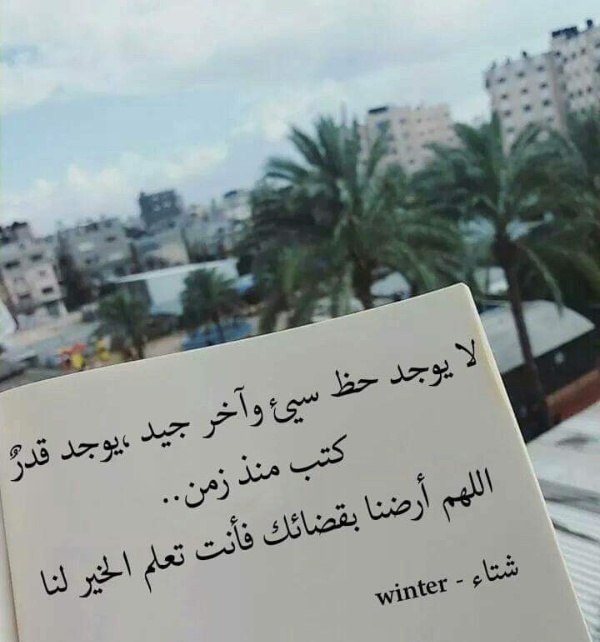text: (369, 471, 384, 533), (385, 471, 400, 533), (401, 471, 416, 533), (417, 471, 432, 533), (209, 382, 224, 443), (225, 382, 240, 443), (449, 466, 464, 525), (465, 466, 480, 525), (481, 466, 496, 525), (241, 511, 257, 565), (145, 538, 160, 594), (161, 538, 176, 594), (273, 498, 288, 553), (289, 498, 304, 553), (305, 498, 320, 553), (321, 498, 336, 553), (337, 498, 352, 553), (81, 548, 96, 603), (97, 548, 112, 603), (113, 548, 128, 603), (193, 511, 208, 565), (209, 511, 224, 565), (225, 511, 240, 565), (289, 433, 304, 485), (305, 433, 320, 485), (321, 433, 336, 485), (17, 436, 32, 487), (33, 436, 48, 487), (161, 468, 176, 515), (177, 468, 192, 515), (193, 468, 208, 515), (209, 468, 224, 515), (437, 466, 448, 525), (337, 433, 349, 485), (358, 471, 368, 533), (4, 436, 16, 487), (241, 382, 251, 443), (261, 498, 272, 553), (481, 550, 496, 589), (497, 550, 512, 589), (145, 417, 160, 455), (161, 417, 176, 455), (433, 573, 449, 608), (273, 388, 288, 425), (289, 388, 304, 425), (305, 388, 320, 425), (177, 417, 191, 455), (385, 573, 400, 608), (401, 573, 416, 608), (417, 573, 432, 608), (241, 454, 256, 488), (257, 454, 272, 488), (49, 563, 64, 597), (177, 538, 186, 594), (401, 359, 416, 390), (417, 359, 432, 390), (433, 359, 448, 390), (371, 573, 384, 608), (337, 370, 352, 400), (353, 370, 368, 400), (65, 433, 80, 463), (81, 433, 96, 463), (97, 433, 112, 463), (113, 433, 128, 463), (353, 498, 361, 553), (465, 337, 478, 369), (137, 538, 144, 594), (225, 468, 233, 515), (389, 359, 400, 390), (454, 337, 464, 369), (513, 550, 521, 589), (273, 454, 282, 488), (369, 370, 379, 400), (129, 548, 134, 603), (40, 563, 48, 597), (137, 417, 144, 455), (449, 359, 457, 390), (474, 550, 480, 589), (257, 404, 266, 429), (156, 468, 160, 515), (433, 471, 436, 533), (497, 466, 500, 525), (65, 563, 70, 597), (49, 436, 52, 487), (331, 370, 336, 400), (206, 382, 208, 443), (61, 433, 64, 463), (129, 433, 132, 463), (452, 578, 464, 585), (270, 388, 272, 425), (238, 454, 240, 488), (287, 433, 288, 485), (254, 404, 256, 429), (465, 578, 466, 585)
